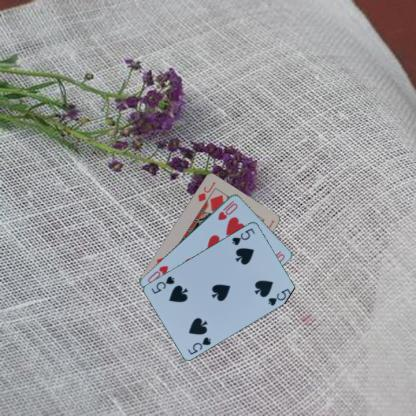10h: (216, 198, 238, 221)
5s: (186, 334, 212, 356), (229, 225, 256, 246)
Jd: (195, 179, 217, 203)
